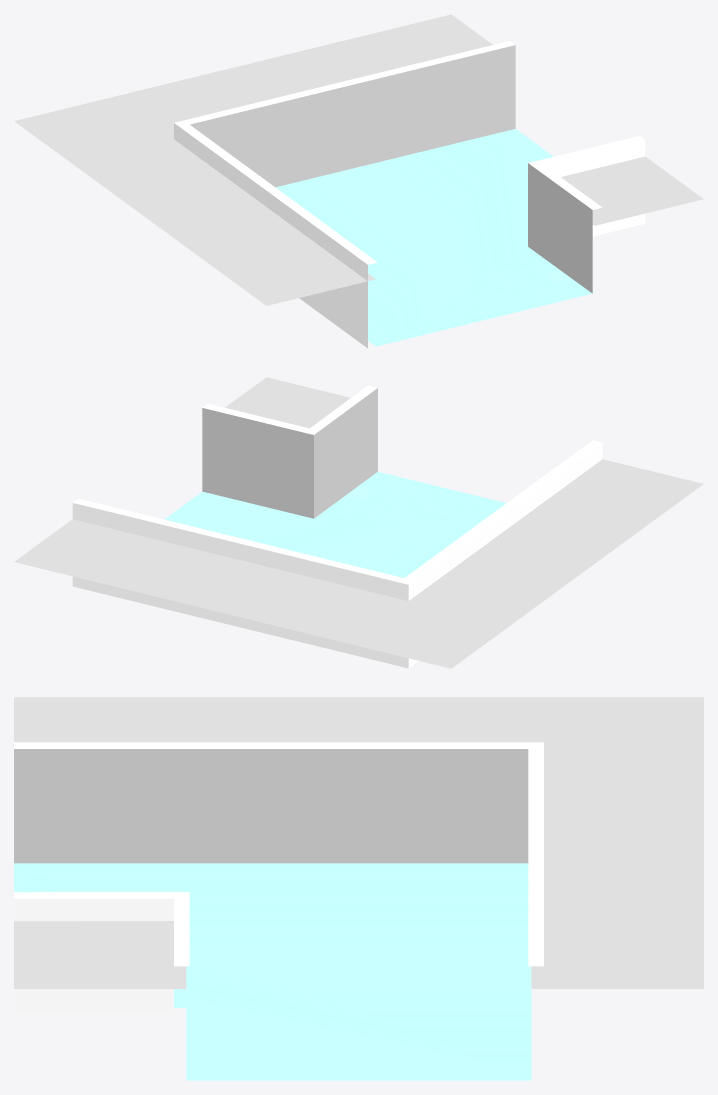
Rendered from road_tile_river_1x1_2.glb.
The picture shows the model from 3 angles, top to bottom: view 1: azimuth 30°, elevation 25°; view 2: azimuth 150°, elevation 25°; view 3: azimuth 270°, elevation 25°; orthographic projection. The views are drawn at different scales.
Parts seen in each view (by area): view 1: road_tile_river_1x1_2(Clone); view 2: road_tile_river_1x1_2(Clone); view 3: road_tile_river_1x1_2(Clone).
Part boxes in pixels (bbox=[...]): road_tile_river_1x1_2(Clone): bbox=[14, 14, 703, 348]; road_tile_river_1x1_2(Clone): bbox=[14, 377, 703, 668]; road_tile_river_1x1_2(Clone): bbox=[14, 697, 703, 1080].
Bounding box in the file's own units: 8 × 1.46 × 8.
Materials: 1 (1 with a texture image).
